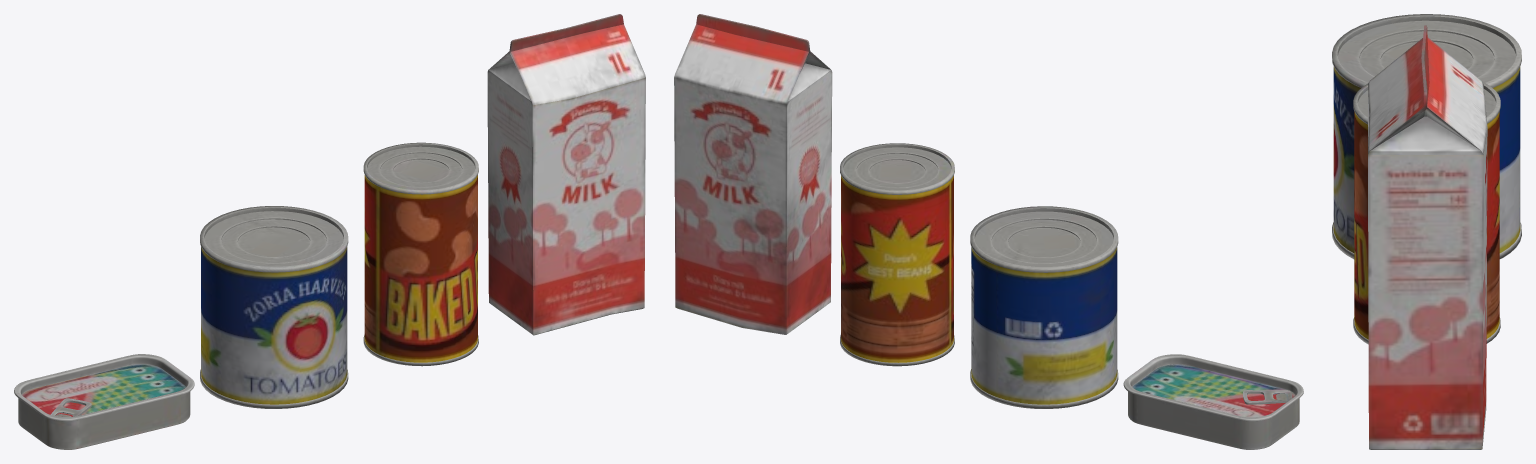
3 renders of one model, left to right at view 1: azimuth 30°, elevation 25°; view 2: azimuth 150°, elevation 25°; view 3: azimuth 270°, elevation 25°, orthographic. The views are drawn at different scales.
Parts seen in each view (by area): view 1: long_life_food_milk, long_life_food_tomatoes, long_life_food_beans, long_life_food_sardines; view 2: long_life_food_milk, long_life_food_tomatoes, long_life_food_beans, long_life_food_sardines; view 3: long_life_food_milk, long_life_food_tomatoes, long_life_food_beans.
Boxes of the visible parts, <box> form: long_life_food_milk: <box>487,14,645,335</box>; long_life_food_tomatoes: <box>200,206,348,408</box>; long_life_food_beans: <box>363,142,478,366</box>; long_life_food_sardines: <box>14,354,194,449</box>; long_life_food_milk: <box>674,14,832,334</box>; long_life_food_tomatoes: <box>970,206,1118,408</box>; long_life_food_beans: <box>840,143,954,366</box>; long_life_food_sardines: <box>1123,354,1303,449</box>; long_life_food_milk: <box>1368,25,1487,449</box>; long_life_food_tomatoes: <box>1332,14,1521,259</box>; long_life_food_beans: <box>1353,81,1500,344</box>.
Size of the model in its own units: 0.5238 by 0.2376 by 0.1136.
1 material, 1 textured.
